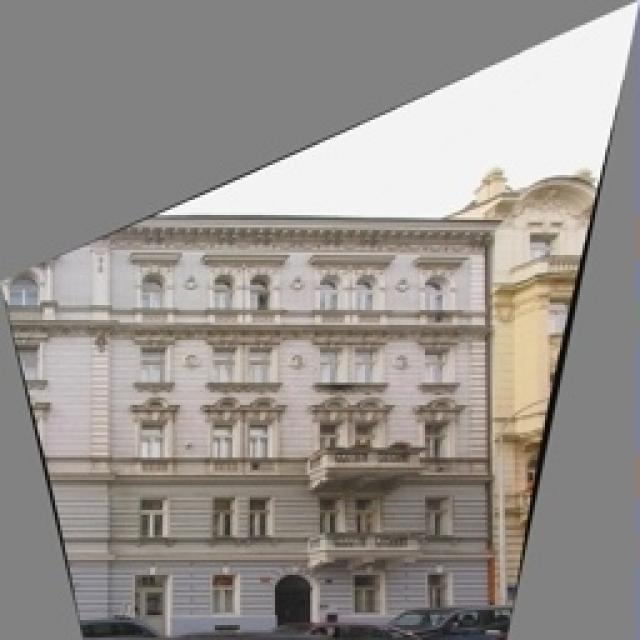building: (0, 170, 485, 640)
